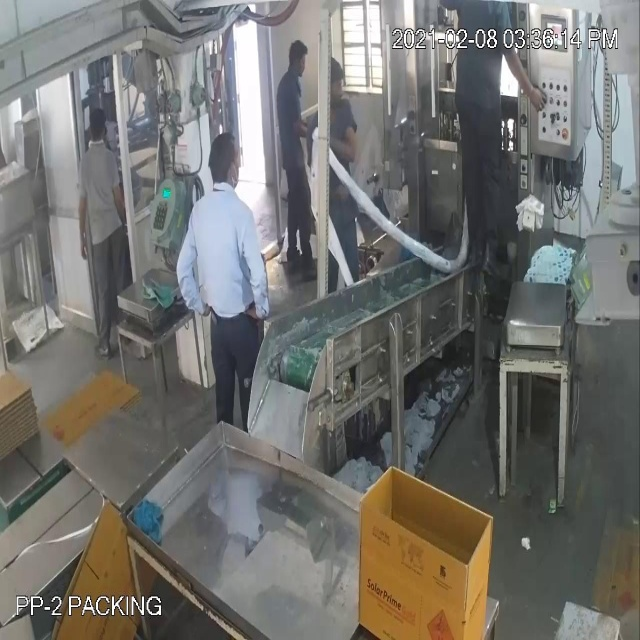Sin_guantes: (497, 25, 560, 124), (233, 222, 275, 331), (167, 226, 211, 321), (62, 179, 95, 267), (317, 118, 361, 166)
